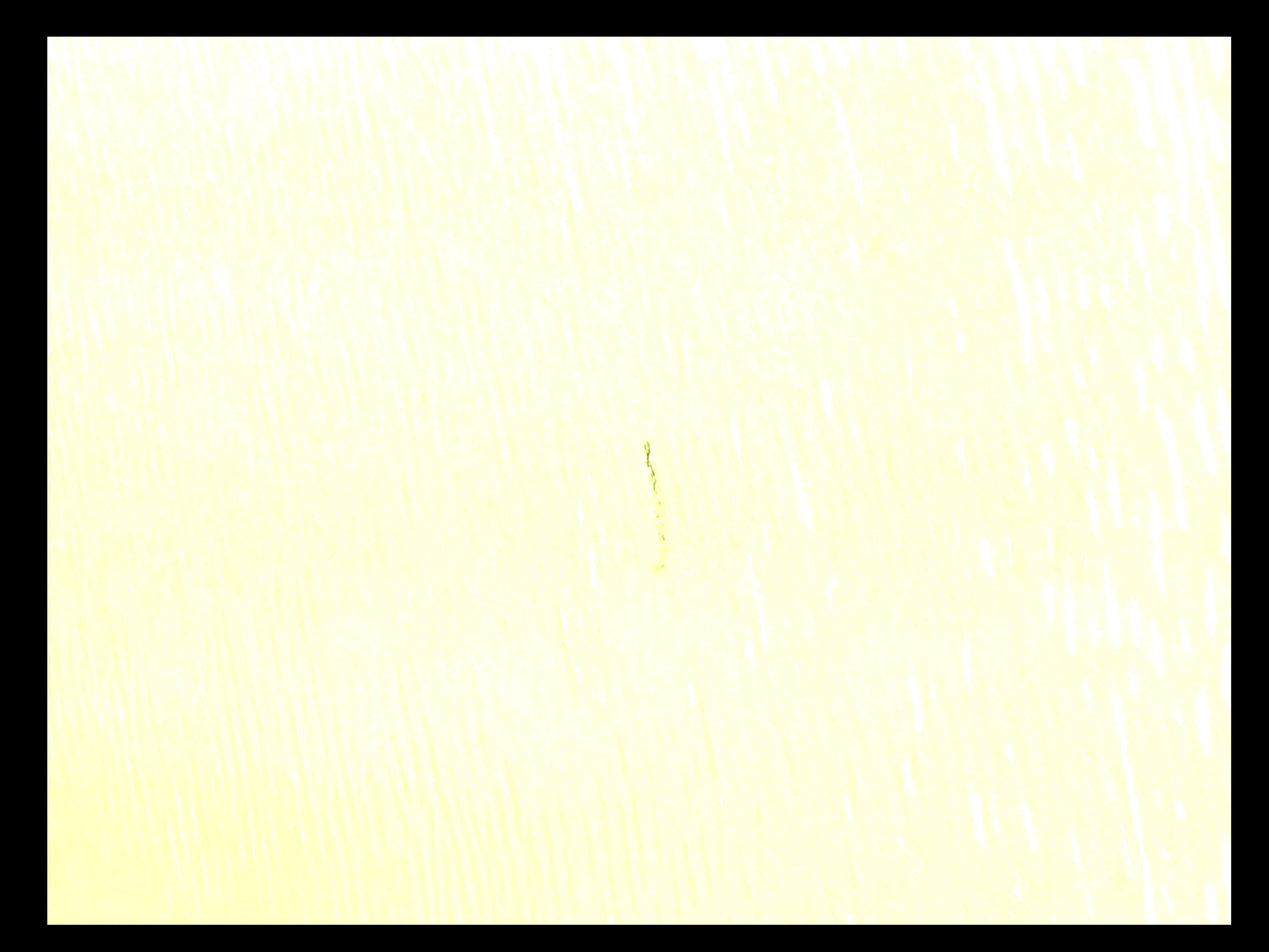Other: (657, 429, 683, 562)
